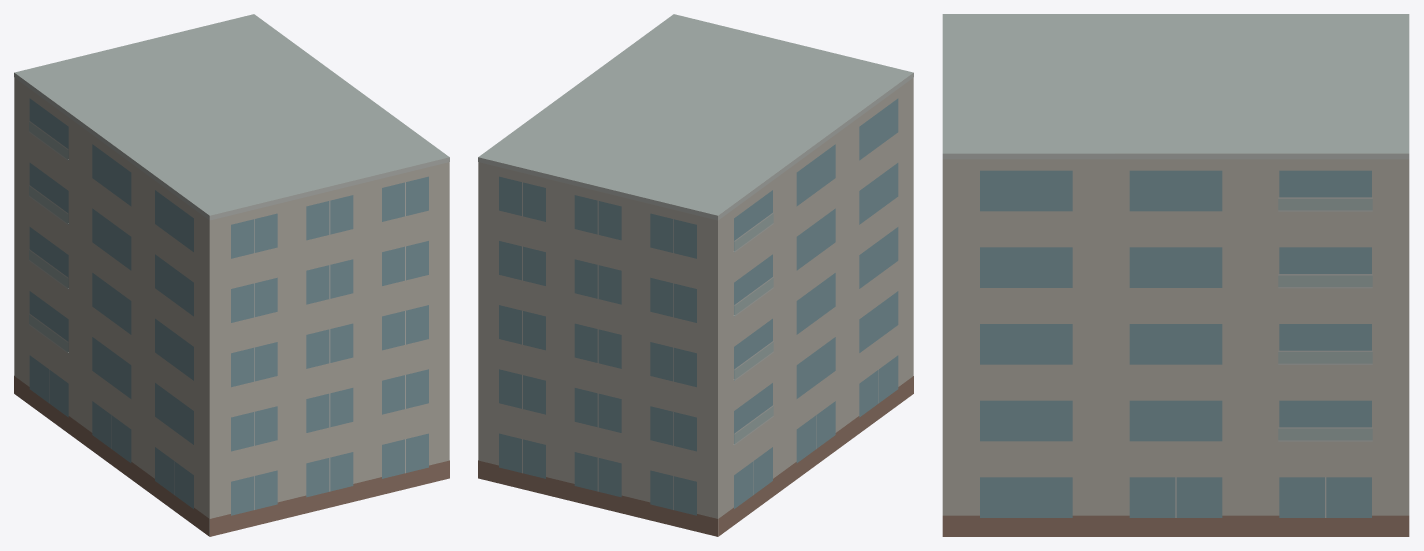
Rendered from survey-upis-33007063.glb.
3 renders of one model, left to right at view 1: azimuth 30°, elevation 25°; view 2: azimuth 150°, elevation 25°; view 3: azimuth 270°, elevation 25°, orthographic. The views are drawn at different scales.
Visible parts, largest first — view 1: survey-upis-33007063.tmp; view 2: survey-upis-33007063.tmp; view 3: survey-upis-33007063.tmp.
Part boxes in pixels (<box>): survey-upis-33007063.tmp: <box>14,14,449,536</box>; survey-upis-33007063.tmp: <box>478,14,913,536</box>; survey-upis-33007063.tmp: <box>942,14,1409,536</box>.
Size of the model in its own units: 12.86 by 16.35 by 18.07.
